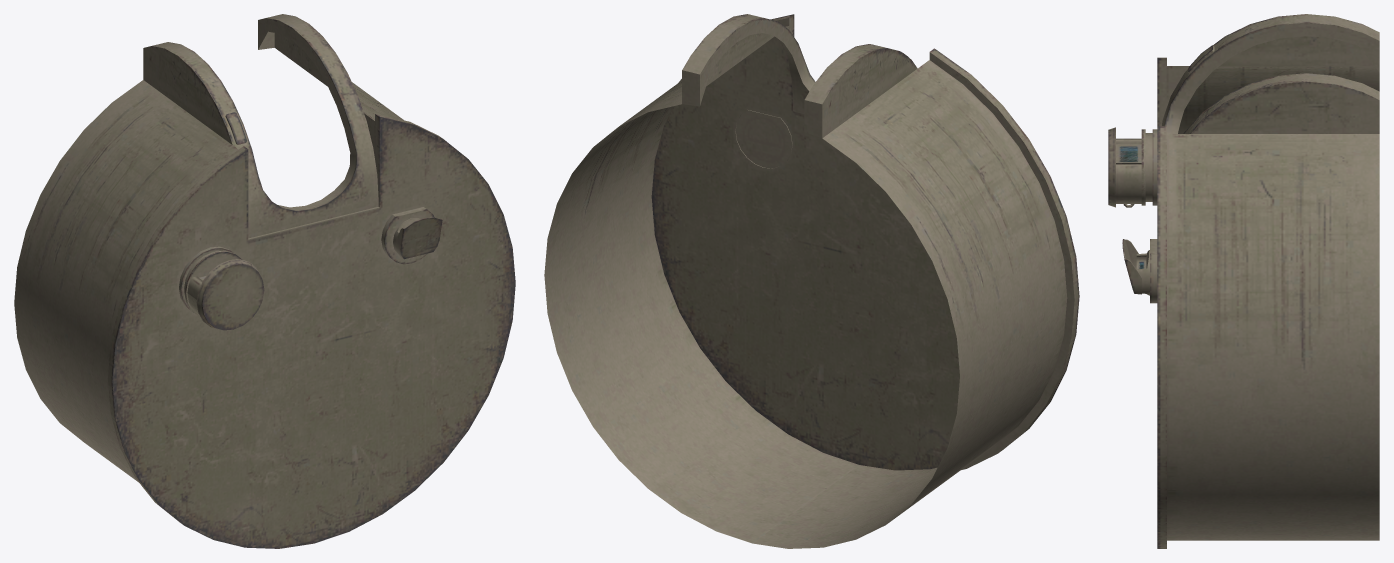
Rendered from Turret_01.glb.
3 views of the same model, side by side, from view 1: azimuth 30°, elevation 25°; view 2: azimuth 150°, elevation 25°; view 3: azimuth 270°, elevation 25° (orthographic). The views are drawn at different scales.
Parts seen in each view (by area): view 1: set_0_group_0; view 2: set_0_group_0; view 3: set_0_group_0.
Boxes of the visible parts, x1,y1,x2,y2 form: set_0_group_0: (14,14,515,548); set_0_group_0: (544,14,1079,548); set_0_group_0: (1108,14,1379,548).
Size of the model in its own units: 2.33 by 2.5 by 1.28.
Materials: 1 (1 with a texture image).
